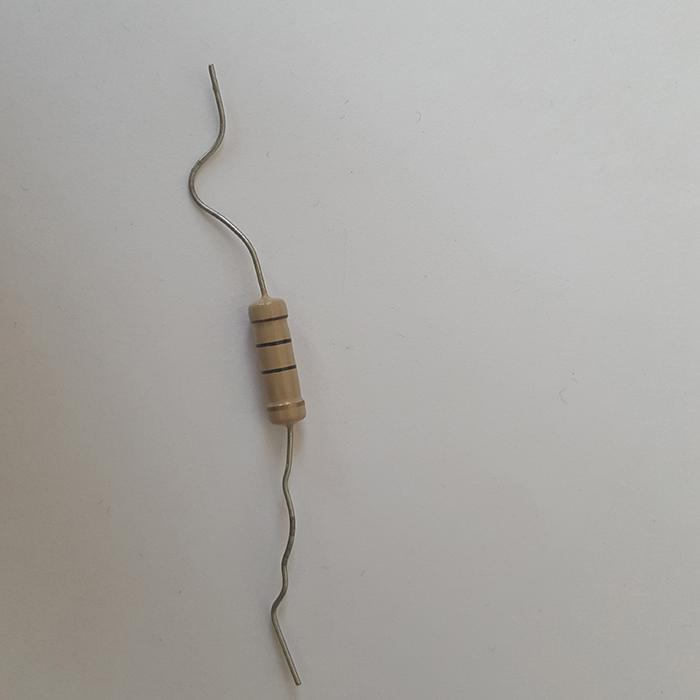resistor: (248, 294, 305, 423)
